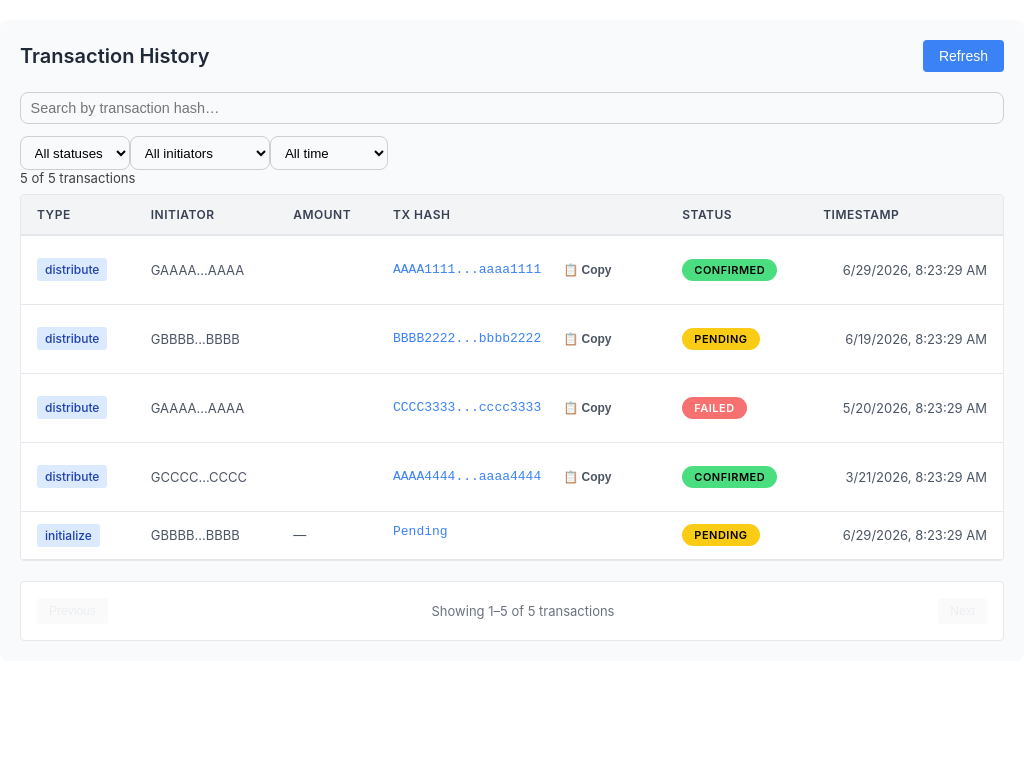
TransactionHistory filters (#413) › filters by initiator
Expected: the text "5 of 5 transactions" is shown, x1=20 y1=170 x2=135 y2=186
Select "GAAAA...AAAA" in the dropdown named "Filter by initiator" at (200, 153), box x1=130 y1=136 x2=270 y2=170
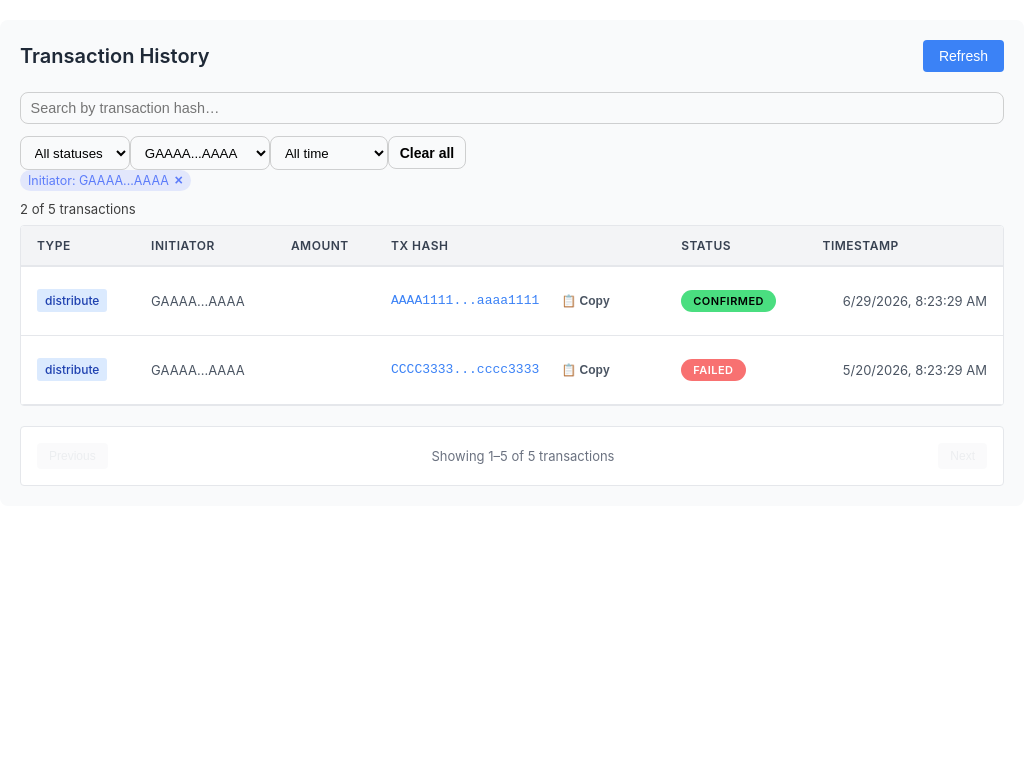
Expected: the text with test id "tx-result-count" reads "2 of 5 transactions", x1=20 y1=201 x2=136 y2=217
